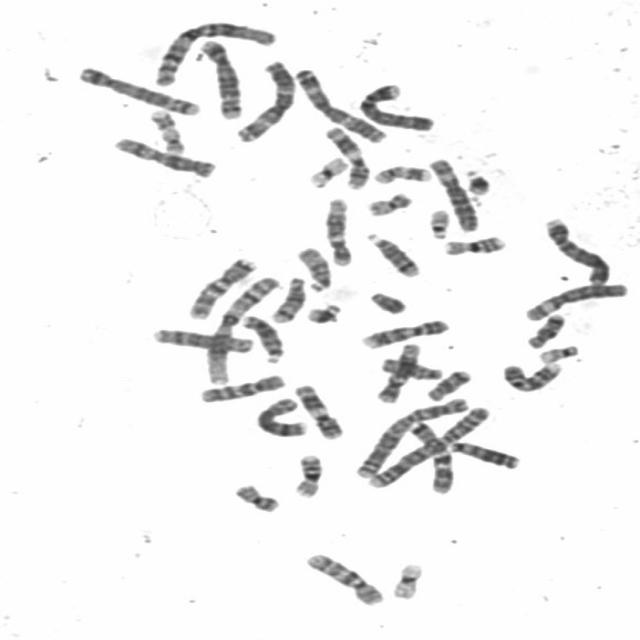A1: (200, 274, 282, 386), (148, 20, 278, 86)
A2: (354, 402, 493, 487), (352, 396, 470, 481)
A3: (292, 65, 388, 144), (232, 59, 298, 142)
B4: (540, 214, 612, 286), (356, 81, 435, 132)
B5: (74, 64, 202, 117), (196, 37, 245, 120)
C10: (300, 550, 387, 607), (194, 371, 286, 404)
C11: (291, 382, 346, 441), (321, 125, 370, 190)
C12: (372, 340, 422, 404), (321, 196, 353, 267)
C6: (519, 281, 628, 323), (426, 155, 479, 233)
C7: (184, 254, 258, 321), (400, 415, 455, 496)
C8: (148, 325, 256, 355), (252, 394, 309, 439)
C9: (355, 316, 453, 351), (498, 358, 564, 393)
D13: (445, 438, 521, 471), (238, 312, 284, 364)
D14: (362, 230, 422, 279), (267, 274, 307, 324)
D15: (294, 245, 334, 293), (381, 356, 445, 382)
E16: (288, 451, 325, 499), (440, 233, 508, 256)
E17: (146, 107, 185, 156), (371, 162, 433, 186)
E18: (423, 367, 472, 403), (524, 311, 567, 349)
F19: (386, 560, 426, 602), (306, 154, 350, 189)
F20: (232, 481, 282, 514), (363, 188, 415, 218)
G21: (302, 302, 343, 325), (462, 168, 492, 197)
G22: (535, 343, 580, 364), (425, 207, 452, 240)
X: (109, 135, 218, 180), (252, 394, 309, 439)
Y: (366, 289, 408, 315)
